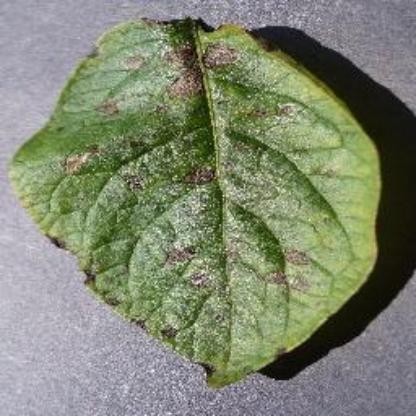Early-Blight: (12, 15, 384, 391)
